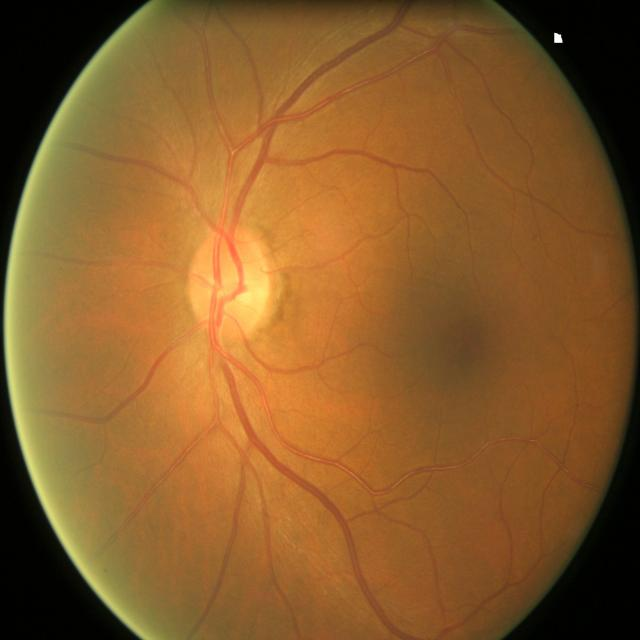OC: (218, 260, 256, 309)
OD: (186, 226, 272, 339)
